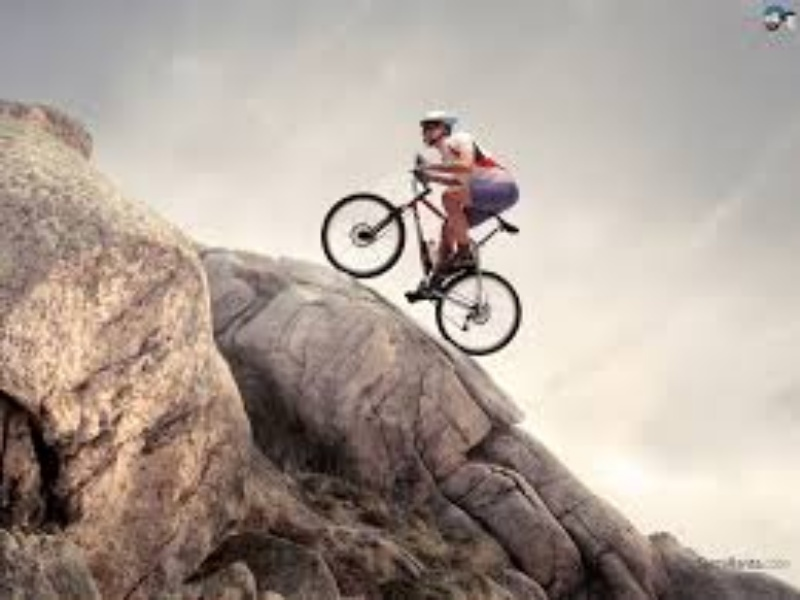bicycle: (299, 78, 534, 366)
